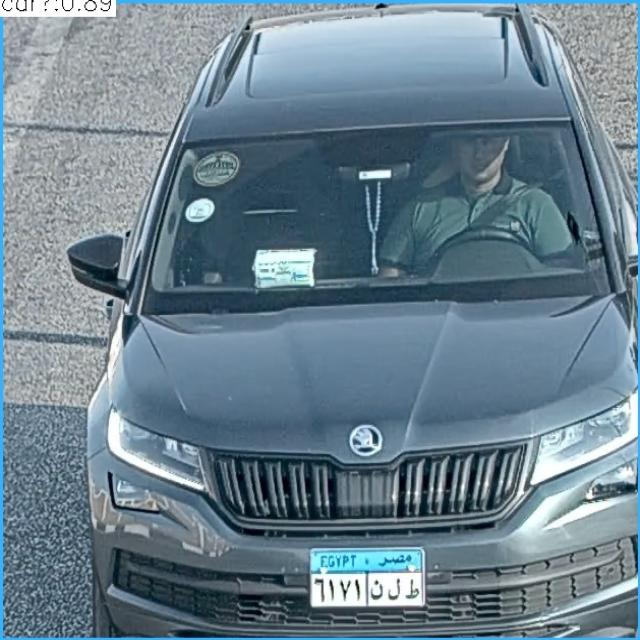windshield: (144, 138, 612, 289)
